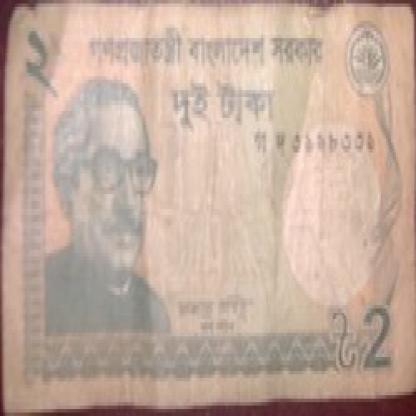two taka: (18, 14, 65, 121), (354, 302, 393, 371)
